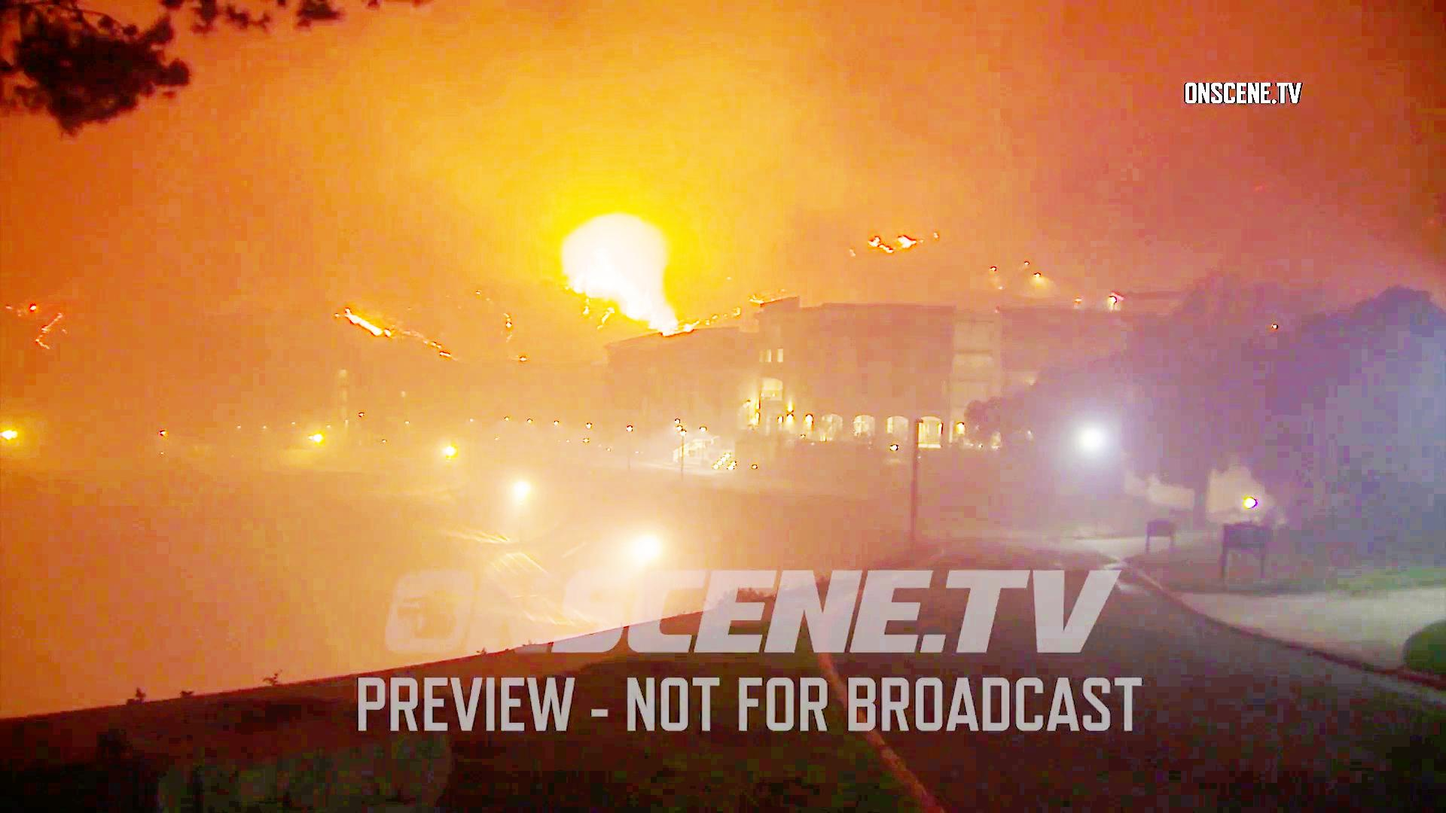fire: (584, 241, 635, 338)
